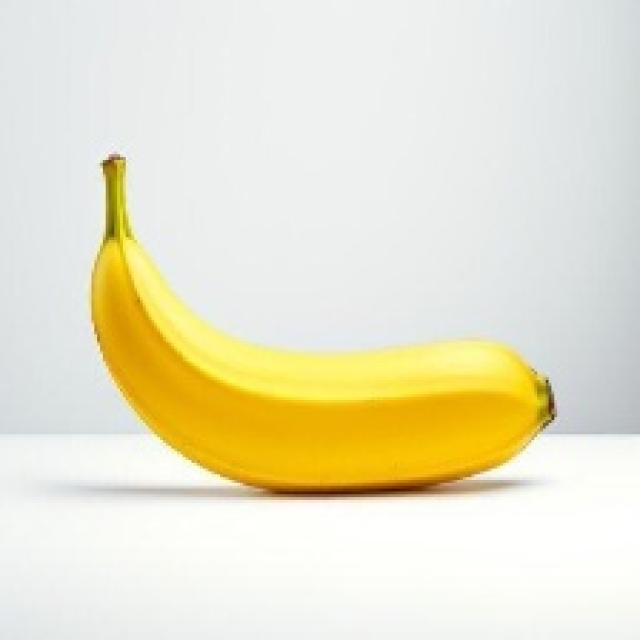Banana: (89, 152, 554, 492)
